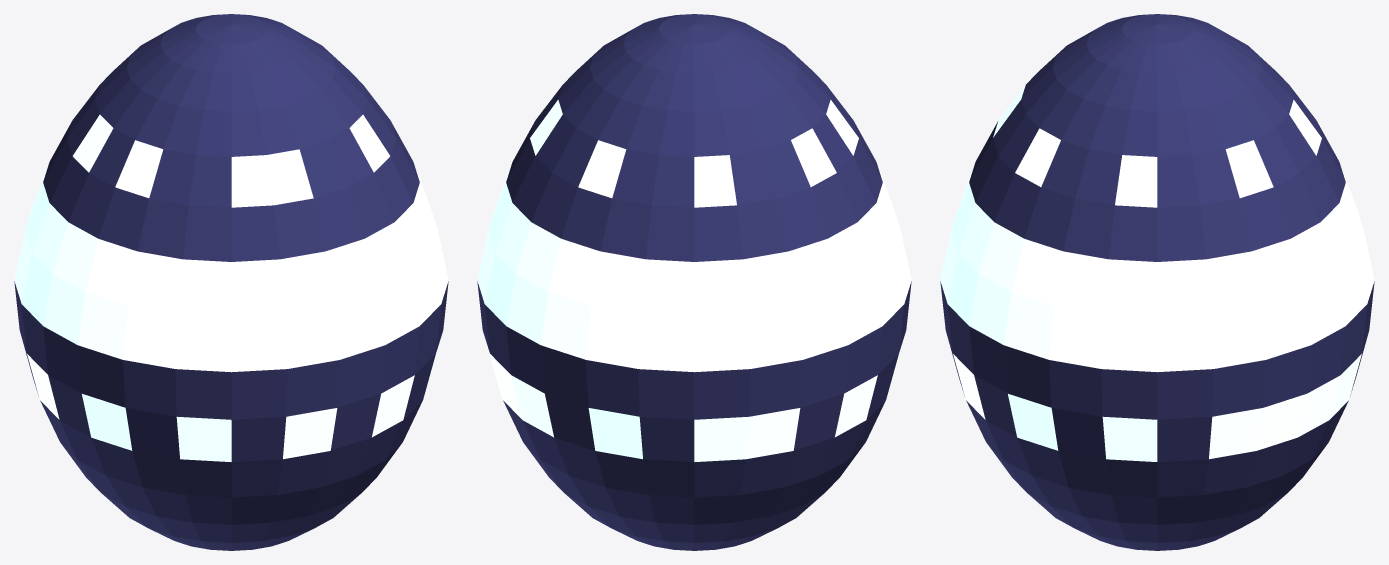
Rendered from Egg_nebula.fbx.
3 renders of one model, left to right at view 1: azimuth 30°, elevation 25°; view 2: azimuth 150°, elevation 25°; view 3: azimuth 270°, elevation 25°, orthographic.
Visible parts, largest first — view 1: Egg_nebula; view 2: Egg_nebula; view 3: Egg_nebula.
Boxes of the visible parts, box(x1,y1,x2,y2) form: Egg_nebula: box(14, 14, 448, 550); Egg_nebula: box(477, 14, 911, 550); Egg_nebula: box(940, 14, 1374, 550).
Size of the model in its own units: 28 by 36.4 by 28.
